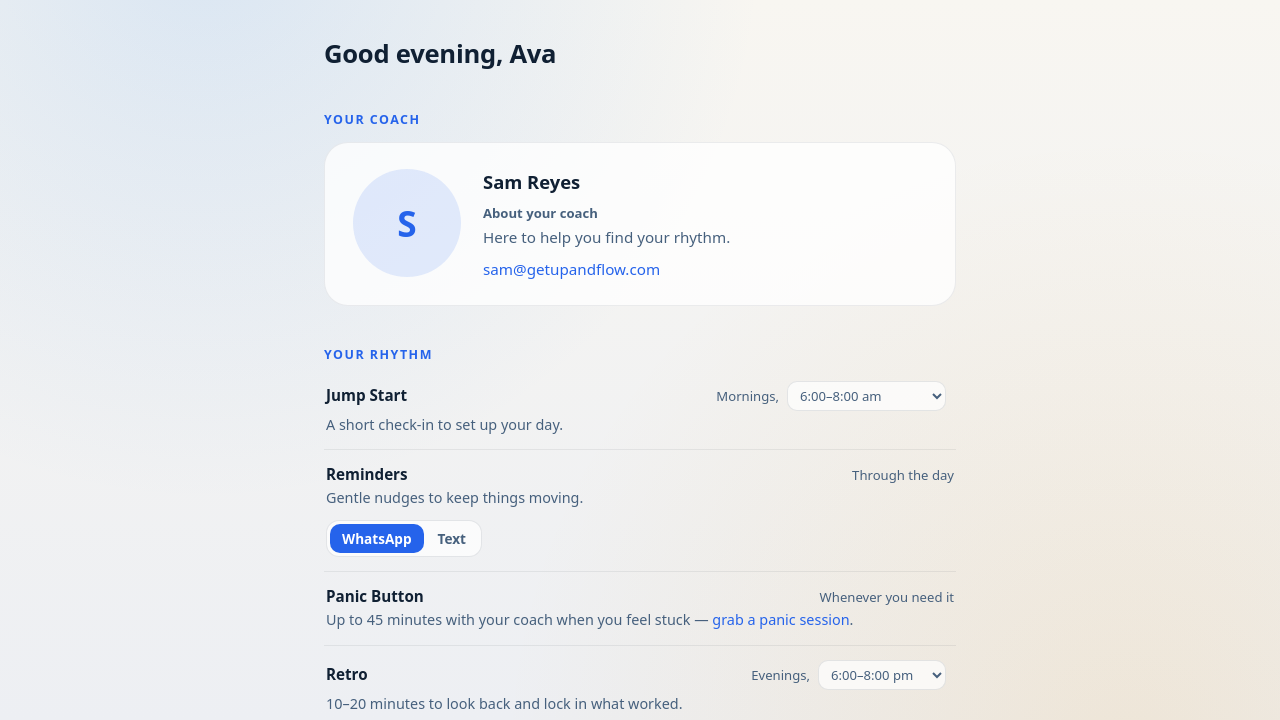
it: Rhythm window editors › shows the saved evening window and PATCHes an hourly change
Select "9:00–10:00 pm" in the dropdown named "Retro evening window": (882, 675) [818, 660, 946, 690]
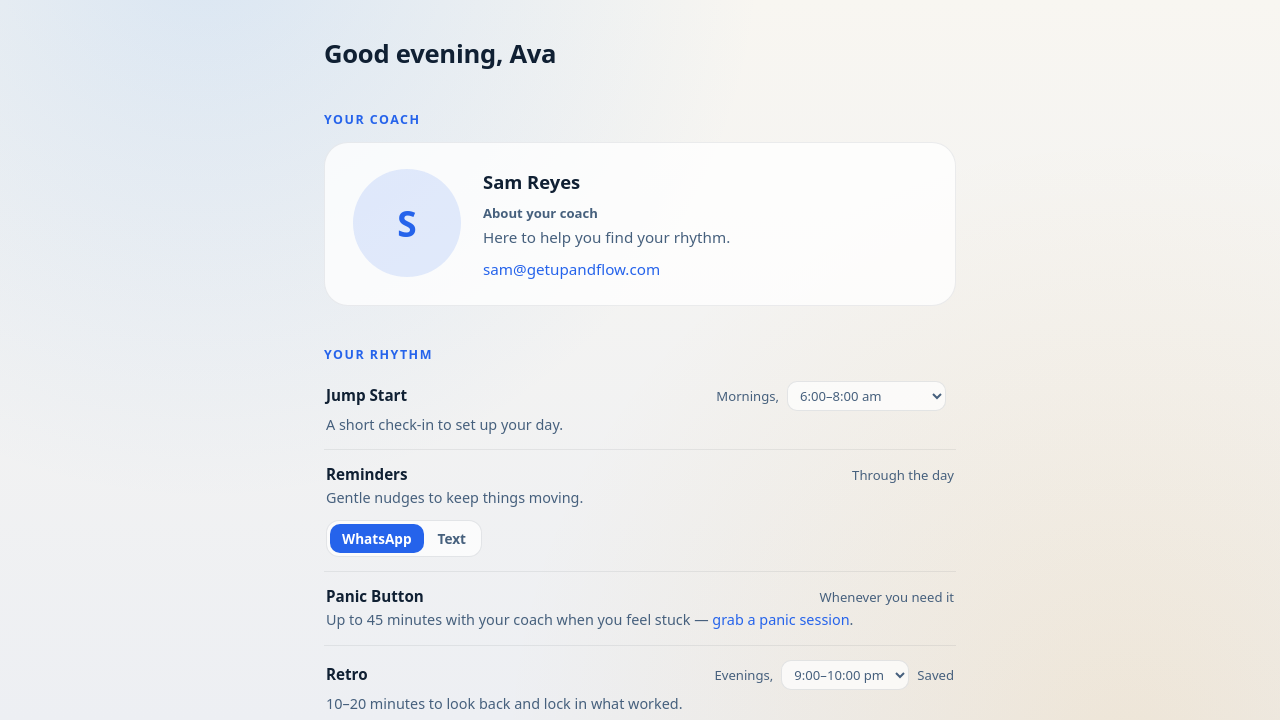
Expected: the message reads "Saved", [917, 666, 954, 684]
